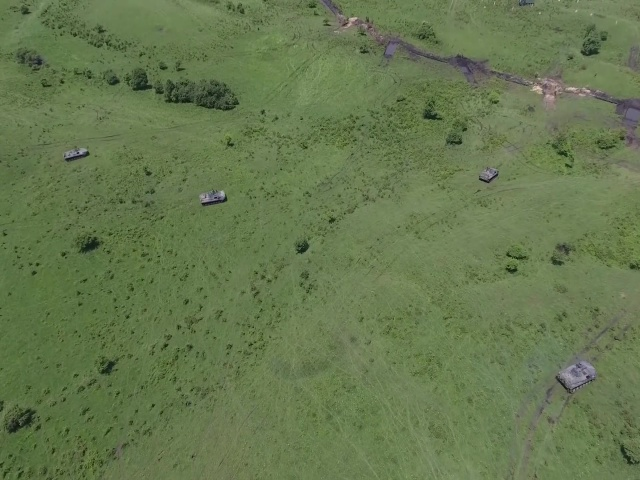vehicle: (553, 359, 596, 394), (198, 188, 227, 205), (60, 145, 90, 161), (478, 167, 498, 183)
